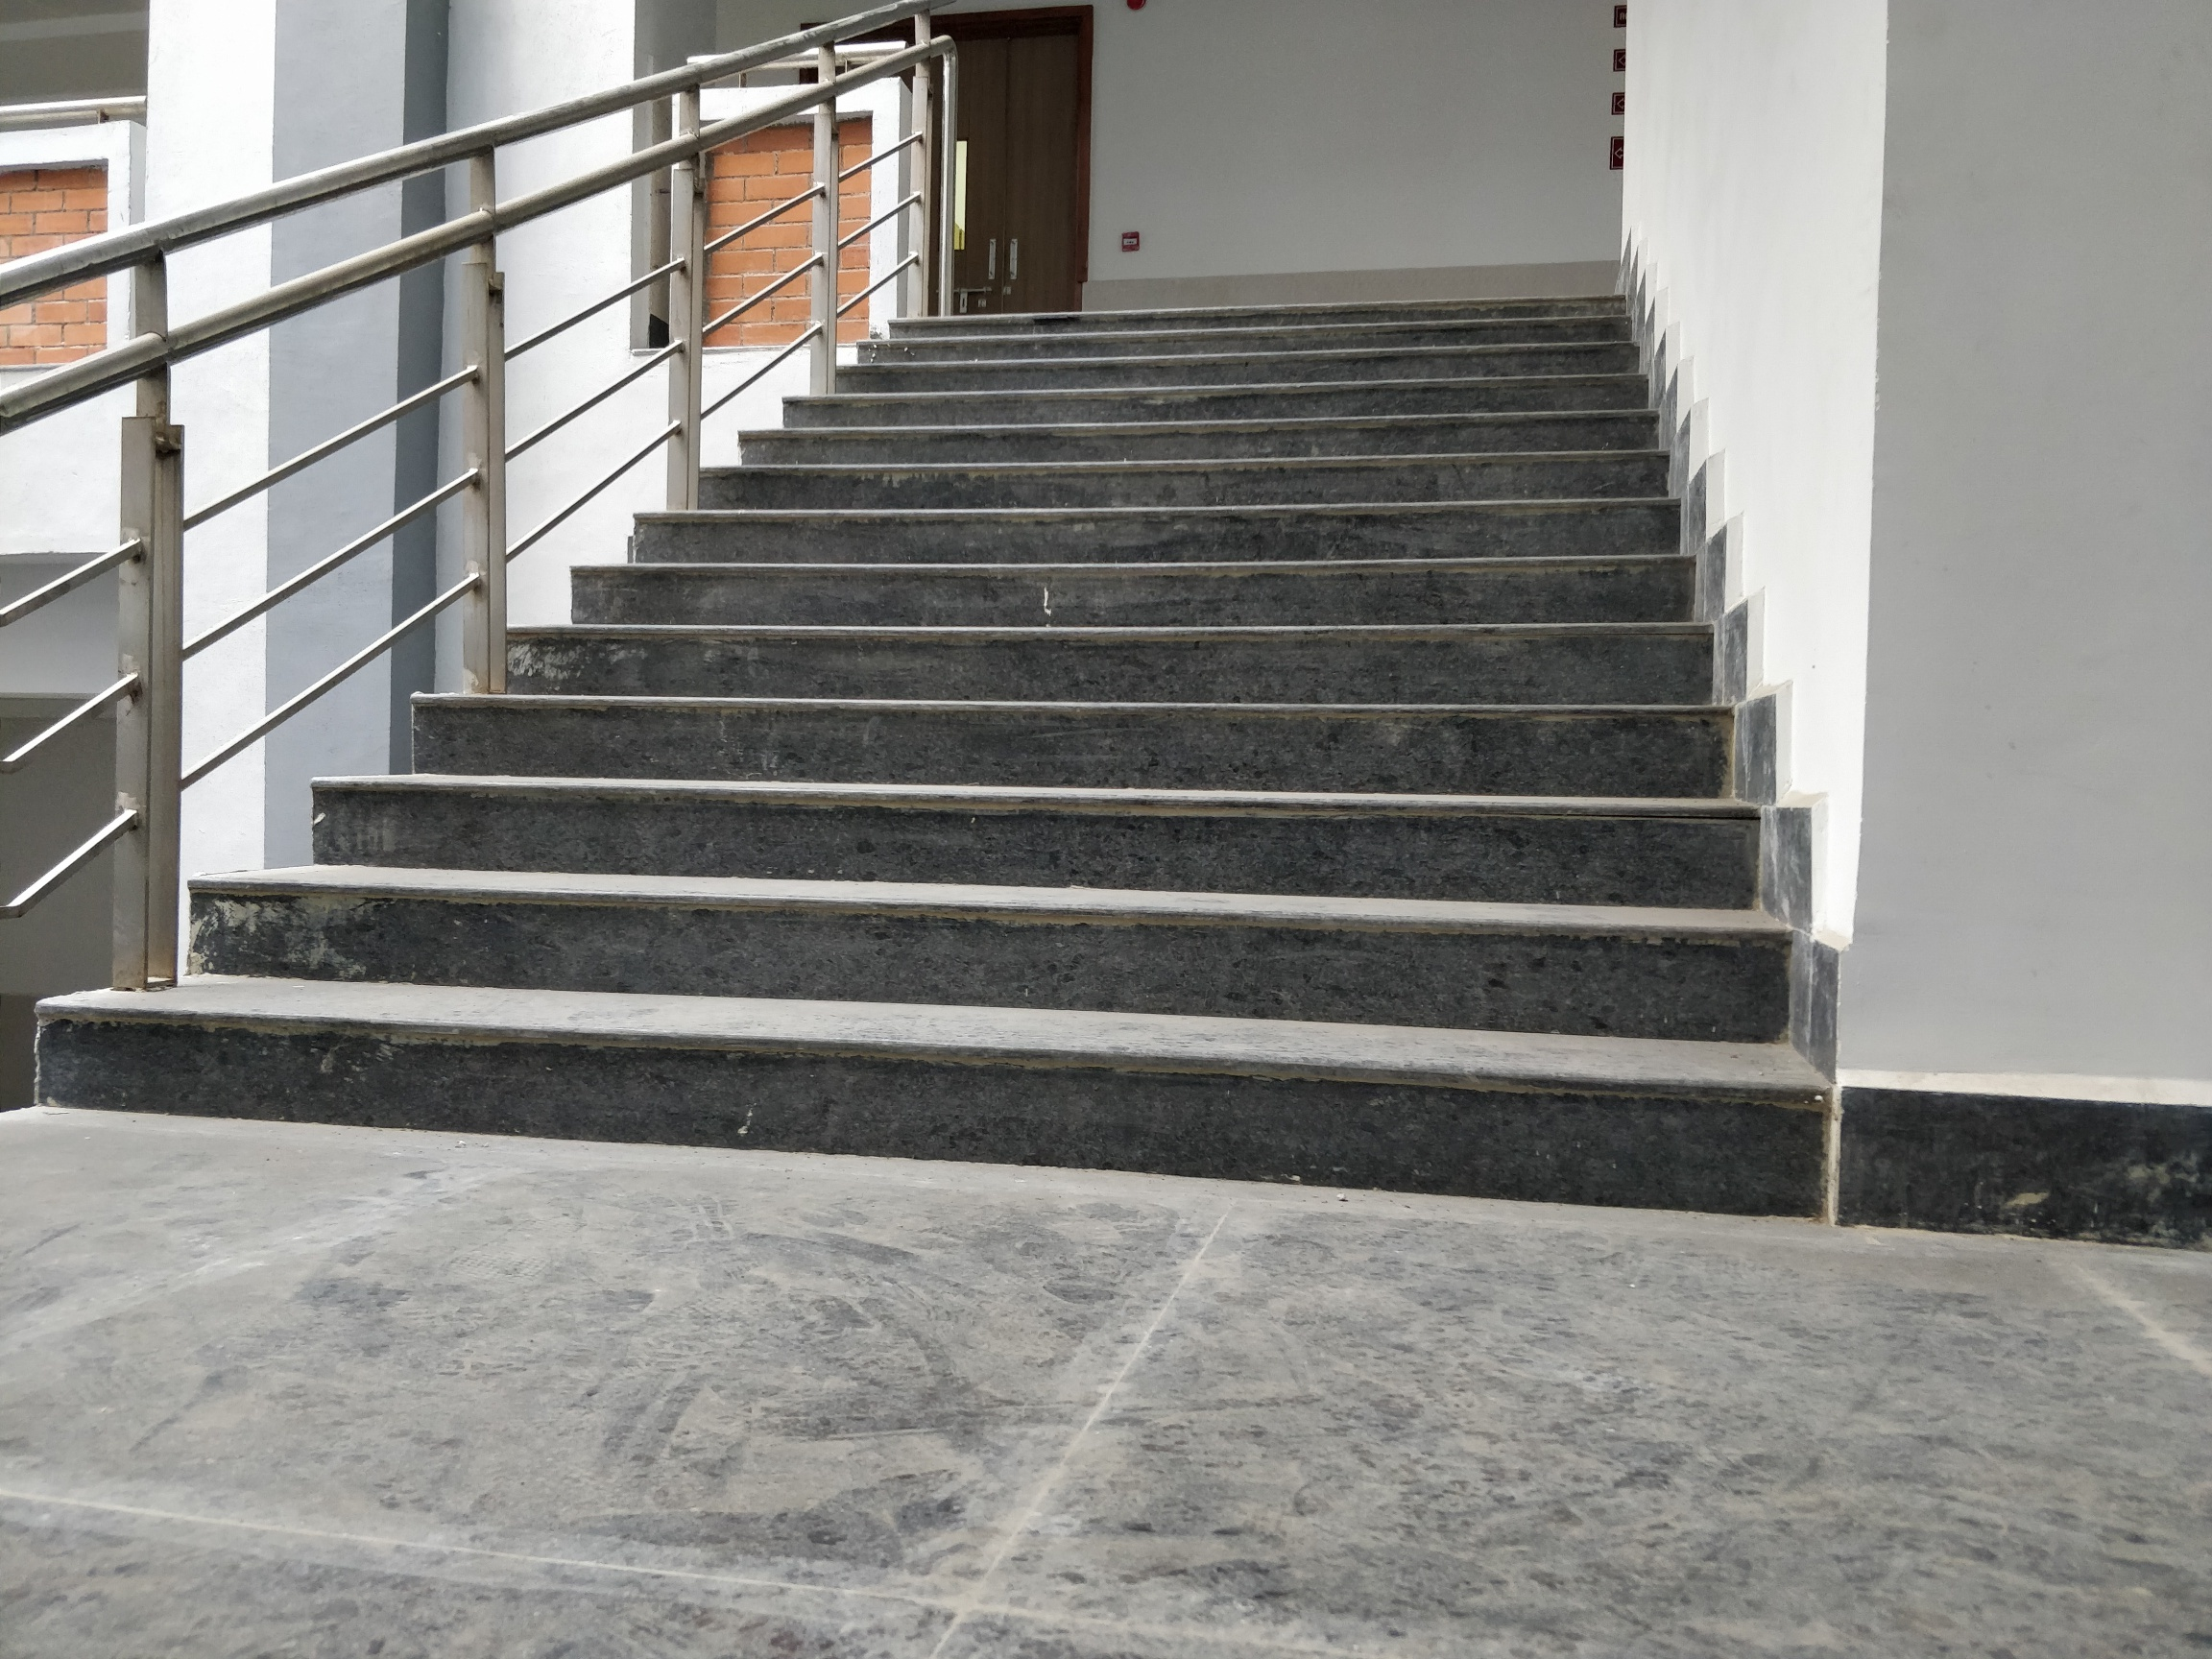stairs_up: (221, 298, 1750, 1182)
